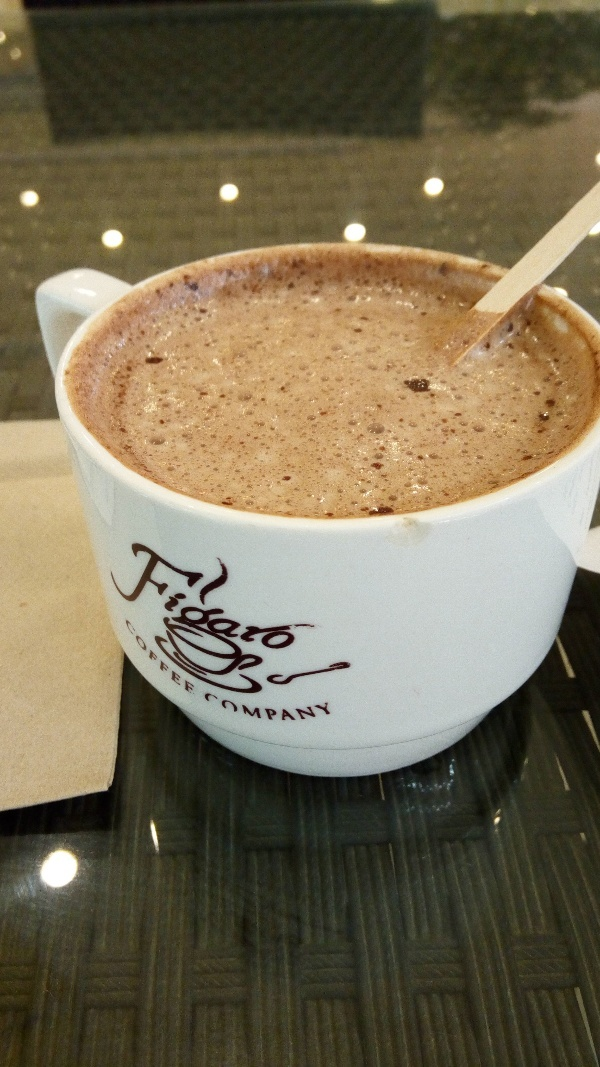text: (145, 538, 160, 655), (161, 538, 176, 655), (177, 538, 192, 655), (193, 538, 208, 655), (209, 538, 224, 655), (225, 538, 240, 655), (241, 538, 256, 655), (257, 538, 272, 655), (273, 538, 288, 655), (289, 538, 304, 655), (305, 538, 320, 655), (133, 538, 144, 655), (145, 619, 160, 697), (161, 619, 176, 697), (177, 619, 192, 697), (133, 619, 144, 697), (209, 692, 224, 727), (225, 692, 240, 727), (241, 692, 256, 727), (257, 692, 272, 727), (273, 692, 288, 727), (289, 692, 304, 727), (305, 692, 320, 727), (321, 692, 331, 727), (193, 619, 195, 697), (205, 692, 208, 727)
